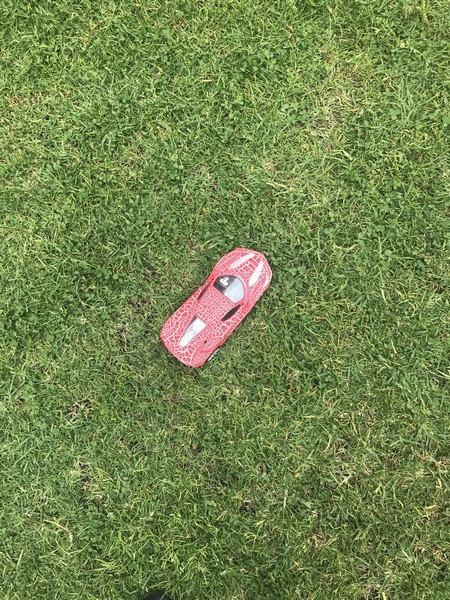RC: (158, 247, 274, 371)
